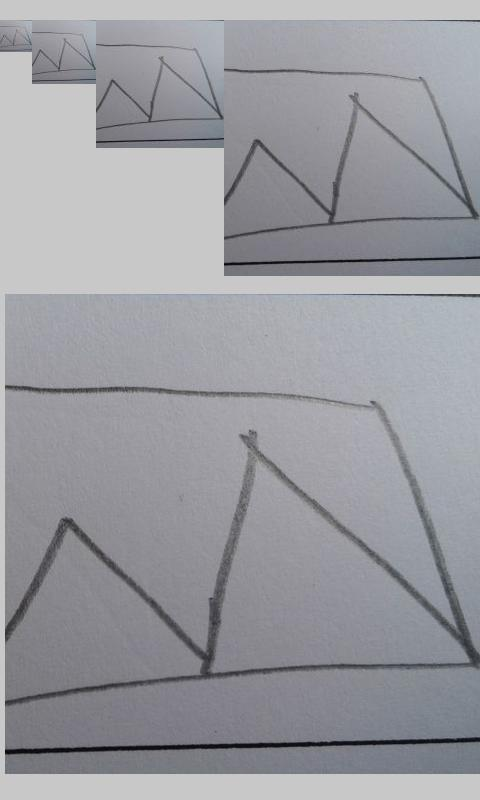image_view: (6, 380, 475, 702), (222, 64, 480, 242), (96, 43, 221, 131), (31, 31, 96, 76), (1, 25, 31, 47)
